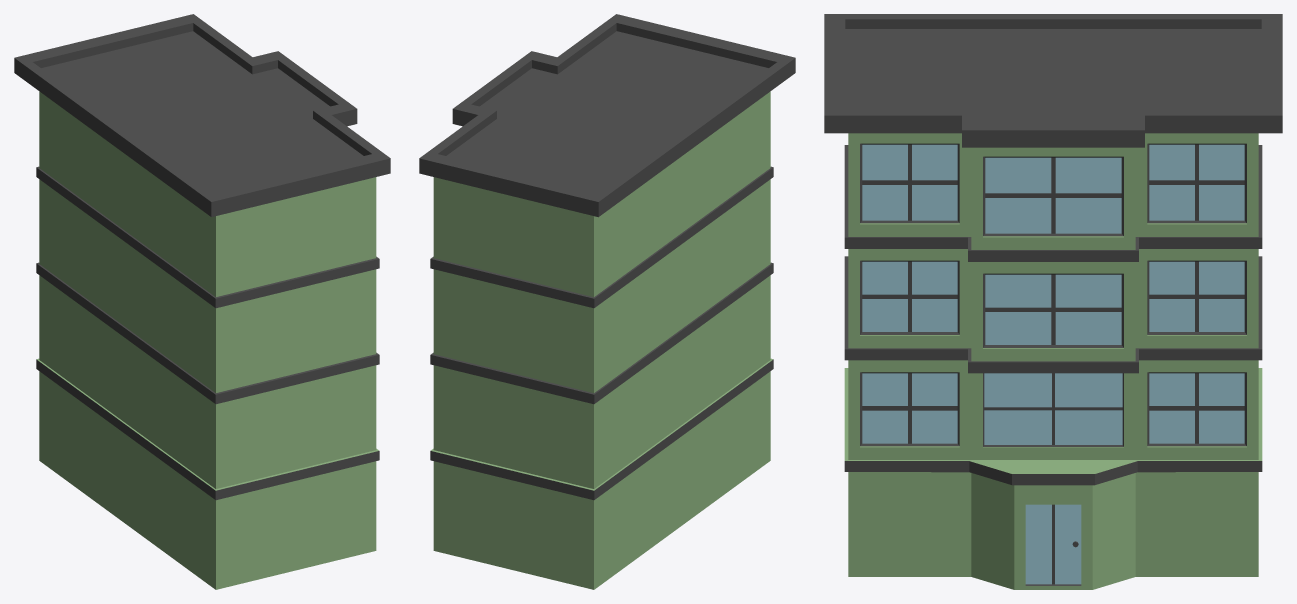
Rendered from building4_city_oldenburg.fbx.
3 renders of one model, left to right at view 1: azimuth 30°, elevation 25°; view 2: azimuth 150°, elevation 25°; view 3: azimuth 270°, elevation 25°, orthographic. The views are drawn at different scales.
Visible parts, largest first — view 1: Circle; view 2: Circle; view 3: Circle.
Part boxes in pixels (box(x1,y1,x2,y2)): Circle: box(14, 14, 390, 589); Circle: box(419, 14, 795, 589); Circle: box(824, 14, 1282, 589).
Size of the model in its own units: 67.05 by 125 by 112.
